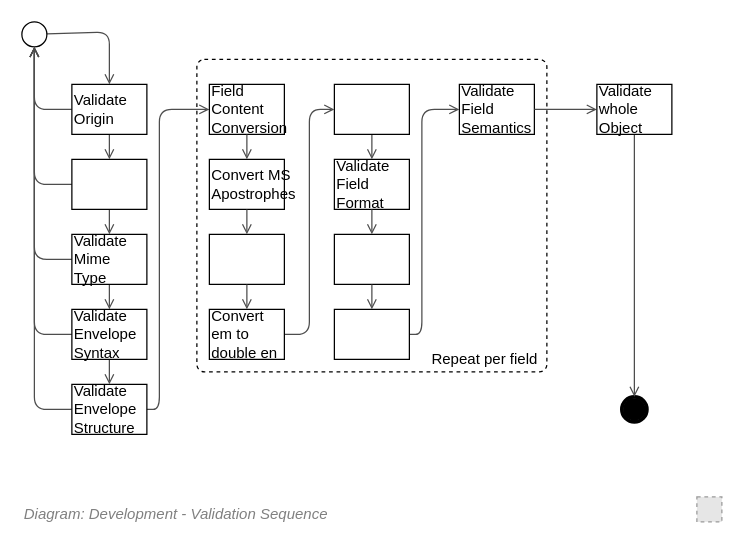
The diagram is 744 pixels wide and 549 high, and some of its shapes have lost their labels. Grey dashed boxes stand in for pictures. The centre of each missing label's shape, as x and y in pixels:
"Convert MS Smart Quotes" belongs at (x=246, y=258).
"Validate Field IsNotNull" belongs at (x=371, y=108).
"Validate Field Range" belongs at (x=371, y=333).
"Validate Field Type" belongs at (x=371, y=258).
"Validate Payload Size" belongs at (x=109, y=183).
